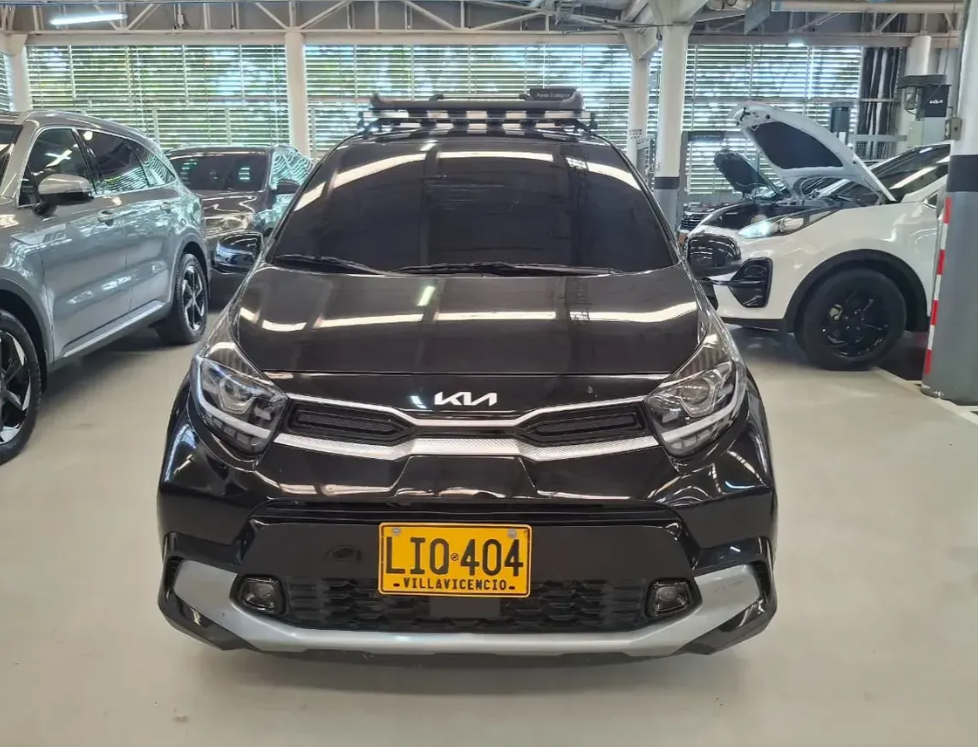placa: (378, 521, 531, 600)
